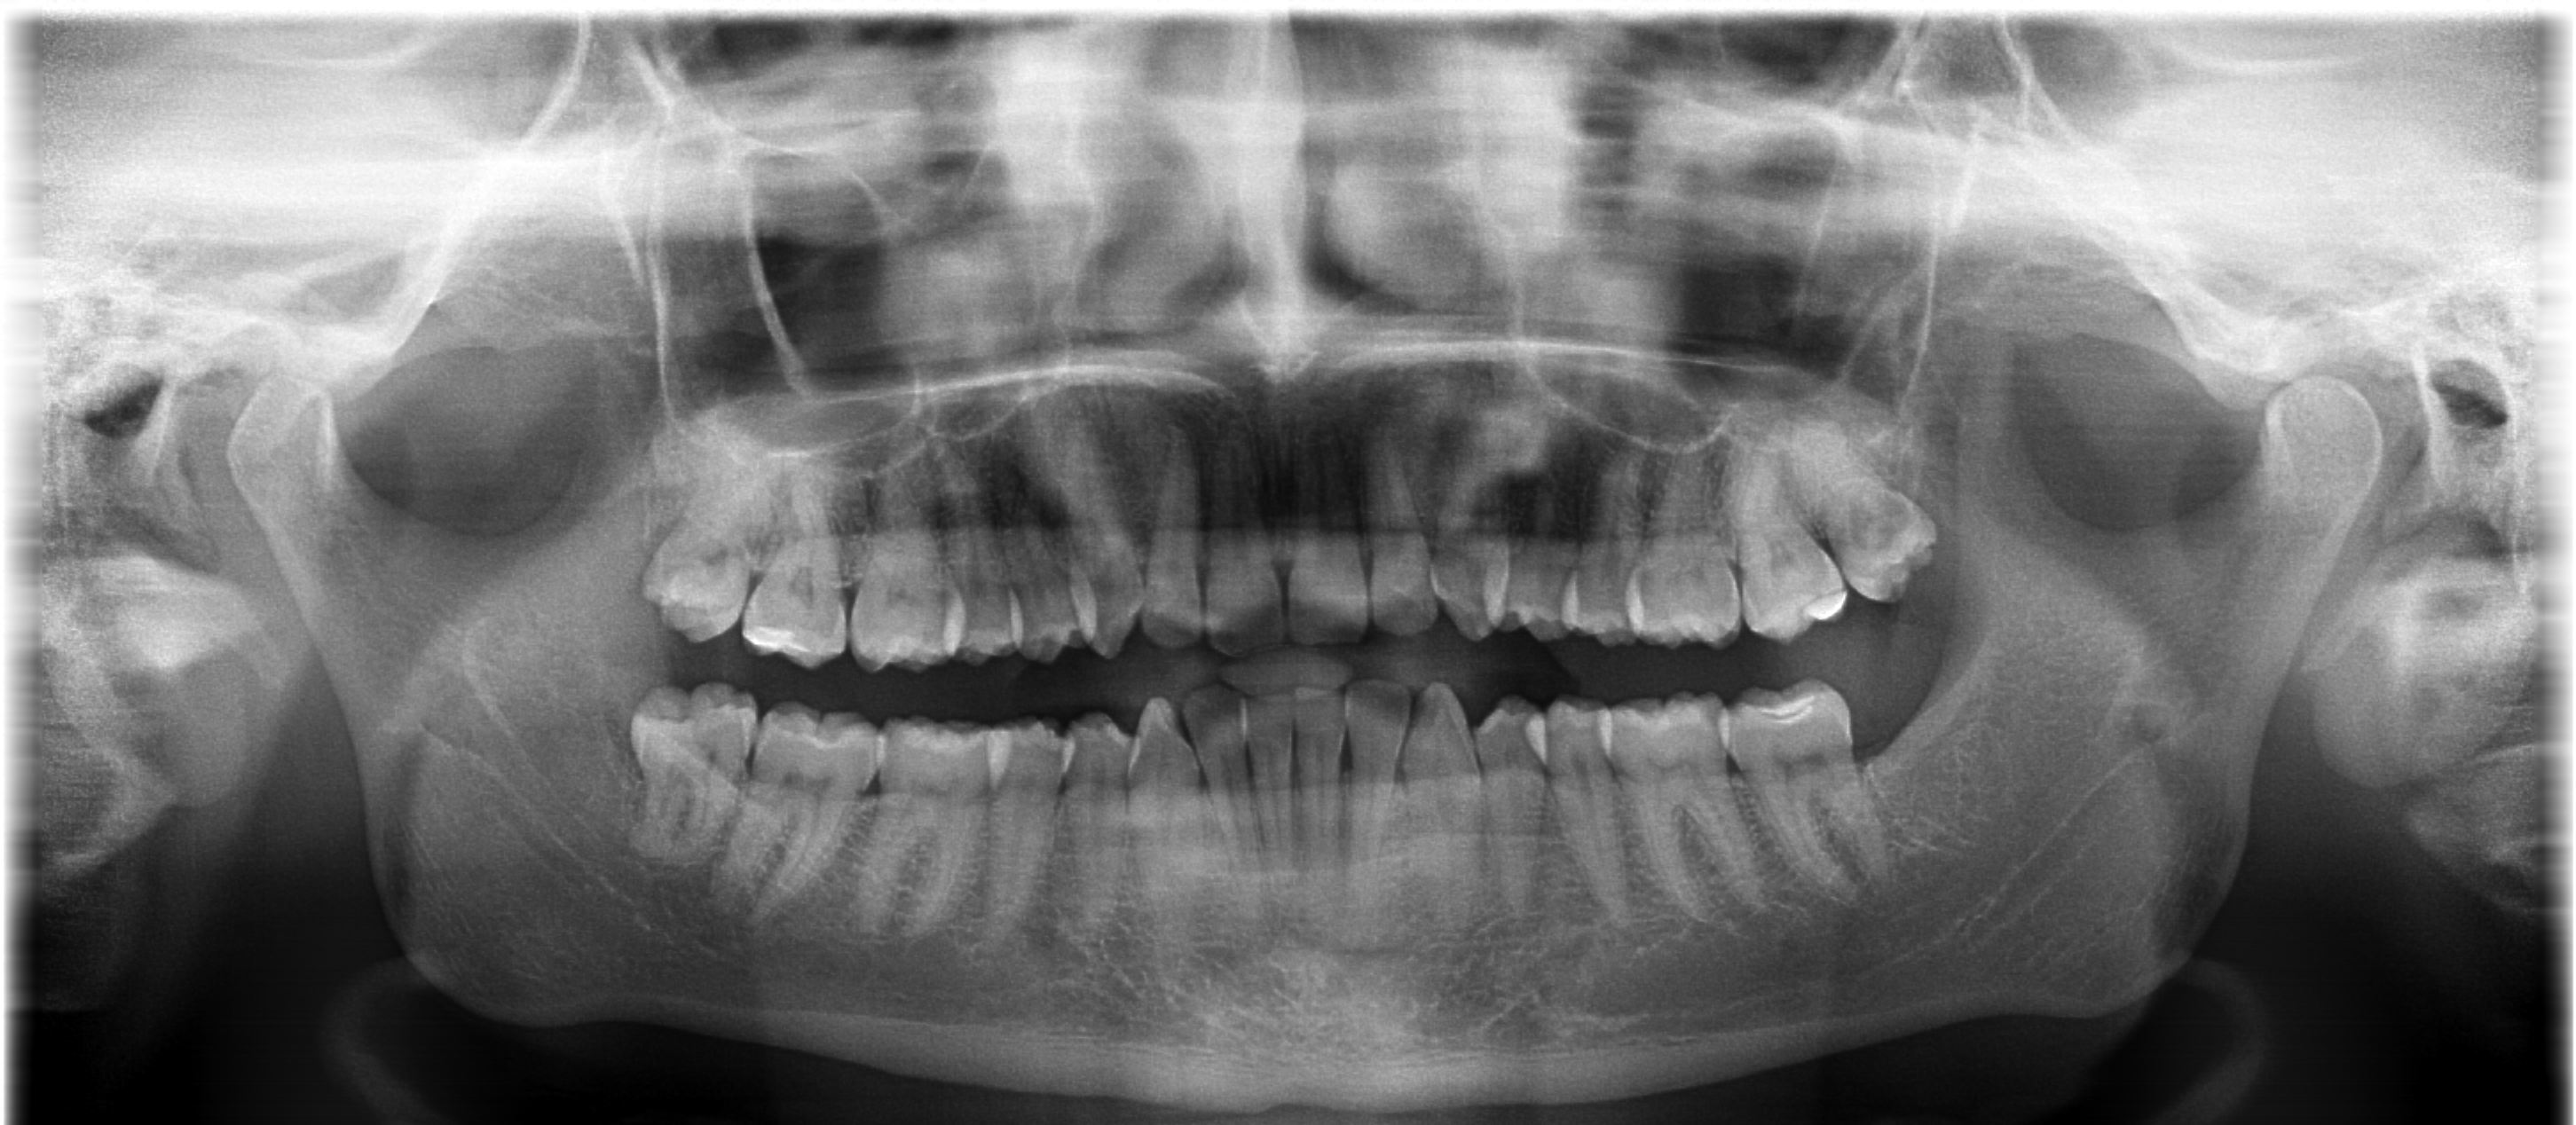apinamiento: (1433, 547, 1690, 655)
cordal: (1784, 402, 1970, 626), (598, 652, 782, 875), (611, 437, 795, 660)
